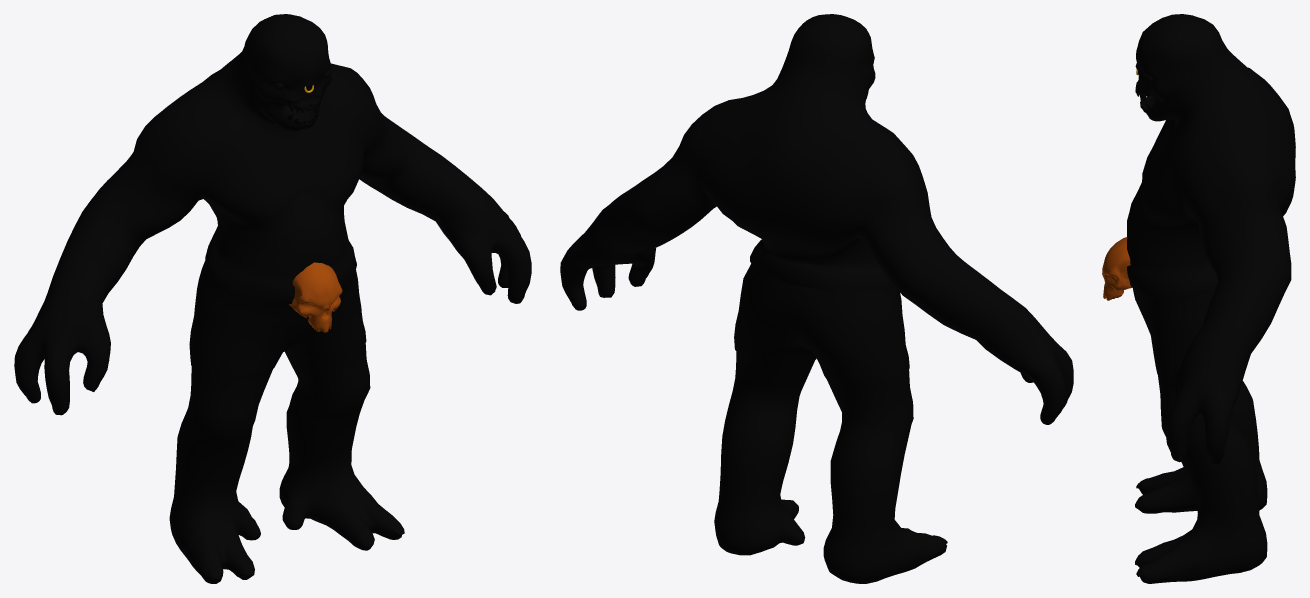
File: boss.fbx
3 renders of one model, left to right at view 1: azimuth 30°, elevation 25°; view 2: azimuth 150°, elevation 25°; view 3: azimuth 270°, elevation 25°, orthographic.
Visible parts, largest first — view 1: boss:polySurface5; view 2: boss:polySurface5; view 3: boss:polySurface5.
Part boxes in pixels (x1,y1,x2,y2): boss:polySurface5: [14, 14, 531, 583]; boss:polySurface5: [560, 14, 1073, 583]; boss:polySurface5: [1102, 14, 1295, 583].
Bounding box in the file's own units: 99.43 × 100 × 33.62.
